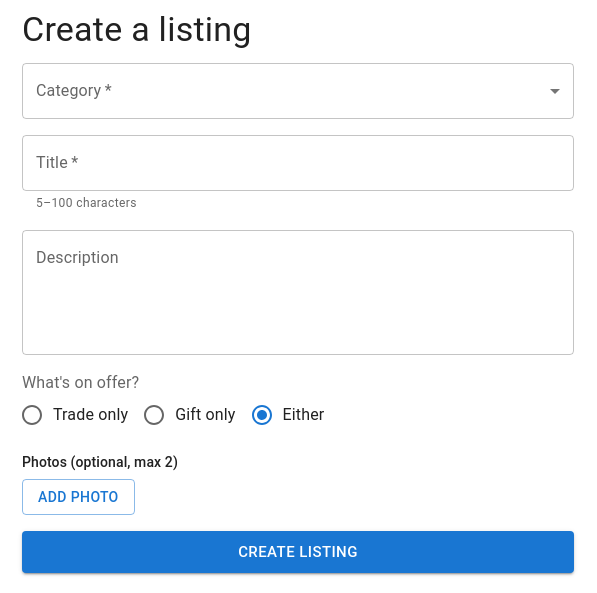
Test case: CreateListingPage › populates the category dropdown from /categories
Click the dropdown named "category": [298, 91] box [22,63,574,119]
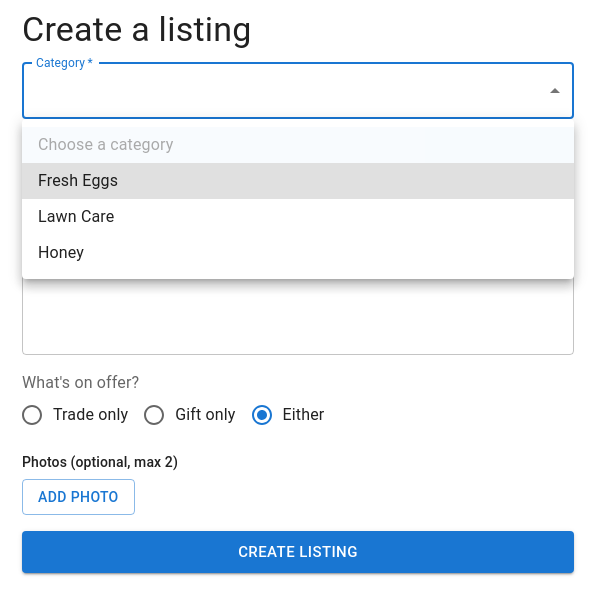
Expected: the option "Fresh Eggs" is shown, [22,163,574,199]
Expected: the option "Lawn Care" is shown, [38,207,114,226]
